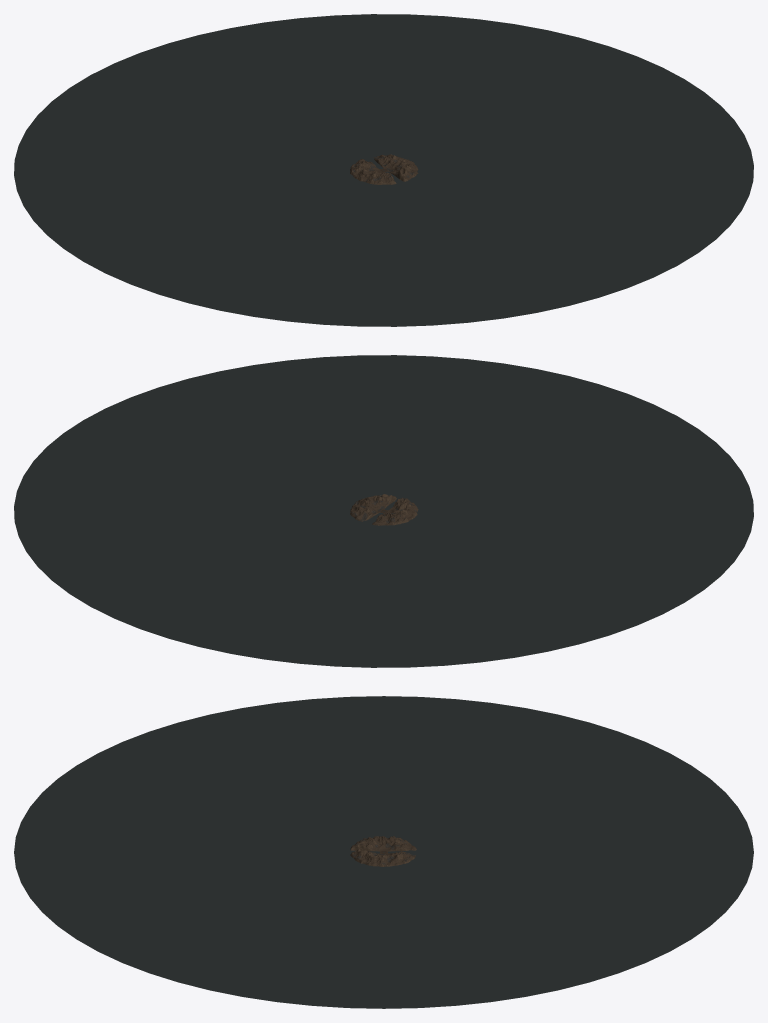
File: backdrop_near_c30_dead.glb
The picture shows the model from 3 angles, top to bottom: view 1: azimuth 30°, elevation 25°; view 2: azimuth 150°, elevation 25°; view 3: azimuth 270°, elevation 25°; orthographic projection.
Visible parts, largest first — view 1: water_N, water_S, water_W, water_E; view 2: water_N, water_S, water_W, water_E; view 3: water_E, water_N, water_S, water_W, near_land_E.
Boxes of the visible parts, x1=… form: water_N: x1=26, y1=14, x2=479, y2=169; water_S: x1=288, y1=171, x2=741, y2=326; water_W: x1=14, y1=130, x2=383, y2=321; water_E: x1=384, y1=19, x2=753, y2=210; water_N: x1=26, y1=512, x2=479, y2=667; water_S: x1=288, y1=355, x2=741, y2=510; water_W: x1=384, y1=471, x2=753, y2=662; water_E: x1=14, y1=360, x2=383, y2=551; water_E: x1=123, y1=863, x2=644, y2=1008; water_N: x1=384, y1=742, x2=753, y2=962; water_S: x1=14, y1=742, x2=383, y2=962; water_W: x1=123, y1=696, x2=644, y2=841; near_land_E: x1=360, y1=852, x2=407, y2=866.
Bounding box in the file's own units: 6000 × 168 × 6000.
Materials: 4 (3 with a texture image).
